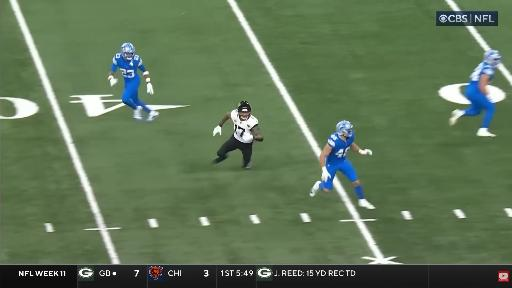Helmet: (336, 120, 354, 137), (484, 50, 501, 67), (121, 42, 135, 60), (238, 101, 251, 120)
Jersey: (111, 54, 145, 82), (327, 133, 354, 165), (231, 110, 258, 142), (467, 62, 494, 89)
Player: (310, 120, 374, 209), (449, 50, 501, 136), (108, 43, 159, 122), (214, 101, 263, 168)
